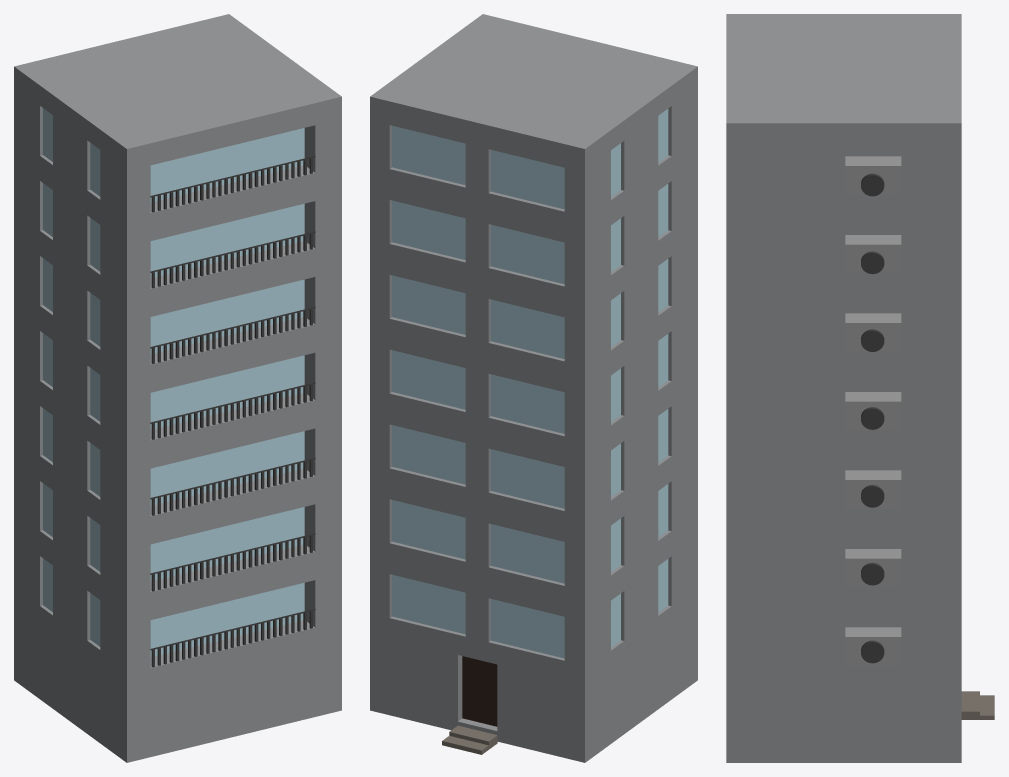
Rendered from Predio1.fbx.
3 renders of one model, left to right at view 1: azimuth 30°, elevation 25°; view 2: azimuth 150°, elevation 25°; view 3: azimuth 270°, elevation 25°, orthographic. The views are drawn at different scales.
Visible parts, largest first — view 1: Cube.015; view 2: Cube.015; view 3: Cube.015.
Part boxes in pixels (bbox=[...]): Cube.015: bbox=[14, 14, 341, 762]; Cube.015: bbox=[370, 14, 697, 762]; Cube.015: bbox=[726, 14, 994, 762].
Bounding box in the file's own units: 2425 × 6017 × 2281.
